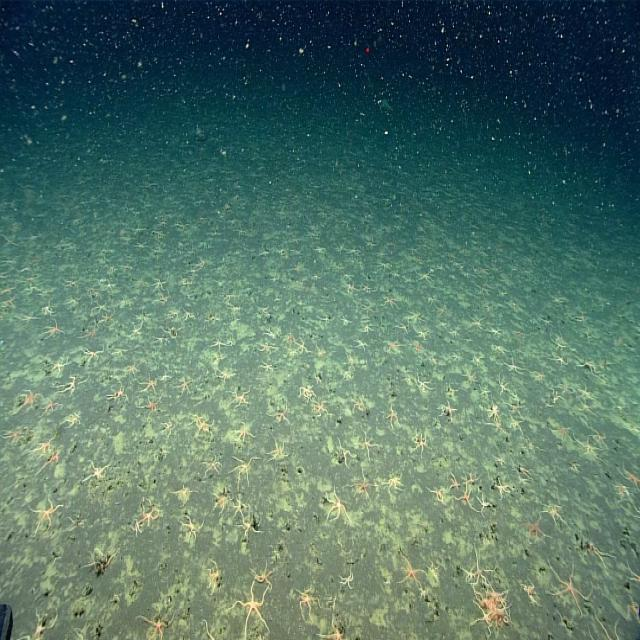brittle-stars: (548, 558, 592, 616), (230, 582, 272, 636), (135, 604, 179, 640), (324, 485, 351, 529), (30, 495, 60, 534), (585, 540, 617, 574), (588, 609, 622, 640), (228, 455, 260, 486), (398, 552, 425, 588), (293, 588, 322, 620), (468, 546, 488, 588), (540, 505, 568, 535), (520, 510, 546, 542), (351, 470, 376, 503), (27, 615, 59, 640), (137, 498, 162, 527), (29, 436, 58, 461), (83, 461, 111, 486), (469, 595, 490, 628), (236, 516, 267, 538), (576, 431, 598, 461), (85, 553, 117, 573), (179, 516, 205, 540), (517, 577, 541, 603), (204, 557, 222, 591), (250, 566, 277, 588), (620, 460, 640, 488), (624, 594, 640, 628), (359, 429, 377, 459), (171, 485, 198, 505), (336, 570, 360, 592), (625, 553, 640, 588), (318, 621, 345, 640), (491, 477, 513, 500), (139, 394, 160, 418), (481, 415, 507, 434), (501, 353, 522, 376), (336, 439, 352, 469), (198, 614, 216, 640), (508, 413, 526, 439), (211, 491, 233, 512), (16, 308, 39, 328), (227, 390, 251, 409), (492, 476, 512, 498), (44, 451, 64, 473), (203, 453, 222, 476), (311, 398, 334, 417), (462, 476, 474, 512), (233, 424, 254, 444), (477, 495, 492, 523), (40, 323, 66, 339), (382, 474, 405, 492), (37, 397, 60, 415), (81, 345, 105, 362), (412, 427, 426, 456), (212, 366, 237, 382), (173, 378, 193, 398), (18, 389, 39, 408), (577, 396, 595, 418), (268, 442, 288, 461), (271, 406, 291, 425), (415, 374, 434, 394), (578, 358, 598, 377), (555, 379, 575, 398), (108, 385, 129, 403), (551, 427, 573, 444), (128, 321, 147, 340), (349, 396, 368, 415), (385, 405, 400, 429), (298, 382, 316, 402), (506, 400, 526, 418), (49, 358, 71, 374), (460, 561, 476, 583), (158, 324, 185, 337), (80, 324, 100, 341), (485, 401, 501, 422), (2, 426, 23, 442), (461, 471, 483, 486), (196, 420, 214, 438), (140, 378, 159, 395), (147, 277, 170, 291), (496, 374, 510, 396), (56, 380, 78, 394), (414, 268, 436, 282), (551, 350, 568, 368), (66, 514, 84, 531), (427, 486, 446, 502), (258, 360, 277, 376), (447, 475, 463, 494), (440, 400, 455, 420), (403, 309, 423, 324), (465, 316, 485, 331), (578, 382, 595, 399), (258, 339, 276, 354), (551, 389, 566, 407), (616, 479, 630, 498), (92, 299, 108, 315), (530, 367, 546, 383), (122, 361, 140, 375), (510, 325, 528, 339), (161, 419, 174, 438), (384, 338, 400, 353), (150, 334, 170, 346), (293, 336, 307, 353), (152, 291, 170, 304), (383, 295, 398, 310), (236, 498, 246, 520), (187, 412, 205, 424), (226, 302, 241, 316), (210, 338, 226, 351), (99, 312, 116, 324), (152, 227, 166, 241), (256, 304, 270, 318), (488, 323, 501, 338), (461, 370, 477, 382), (60, 280, 79, 290), (312, 341, 322, 360), (346, 350, 355, 371), (519, 463, 533, 476), (204, 314, 222, 324), (185, 267, 200, 279), (66, 297, 83, 307), (169, 309, 182, 322), (476, 388, 490, 400), (157, 370, 172, 381), (412, 340, 425, 352), (180, 310, 197, 319), (40, 305, 55, 315), (179, 280, 197, 288), (354, 340, 368, 350), (417, 329, 428, 341), (471, 354, 482, 366), (360, 323, 372, 334), (265, 328, 276, 339), (340, 315, 350, 327), (362, 282, 372, 294), (362, 304, 374, 314), (258, 248, 269, 258), (225, 339, 236, 348), (196, 258, 204, 268)
